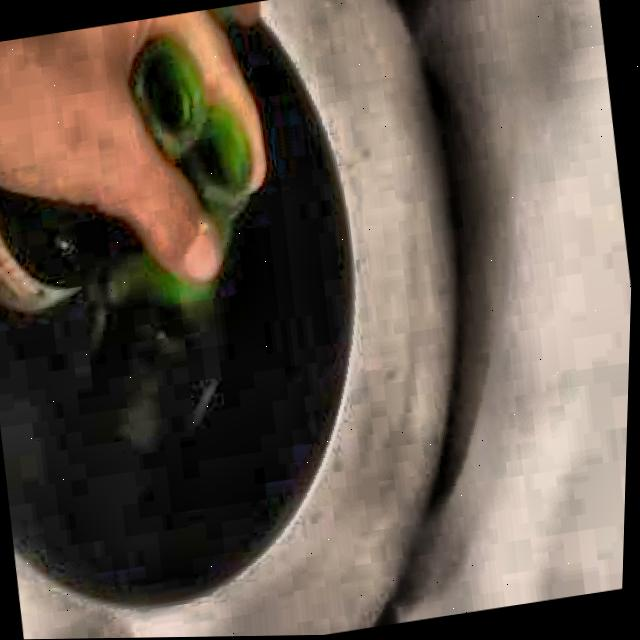glass: (0, 188, 218, 453), (129, 33, 252, 252)
